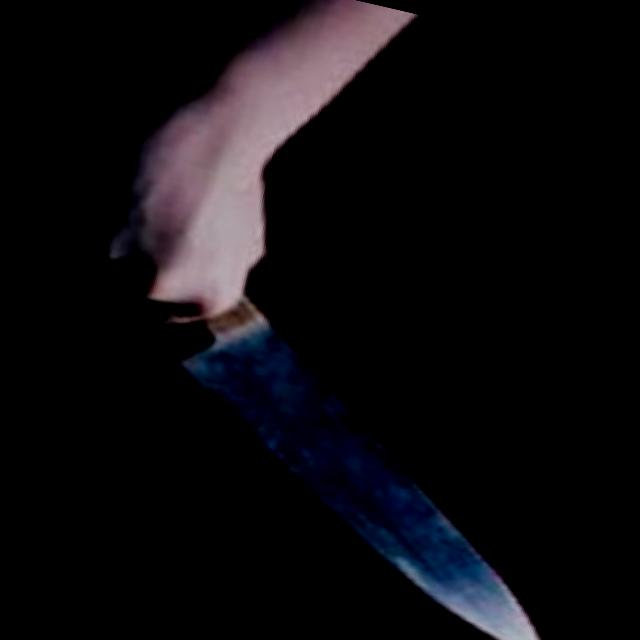knife: (62, 230, 629, 639)
